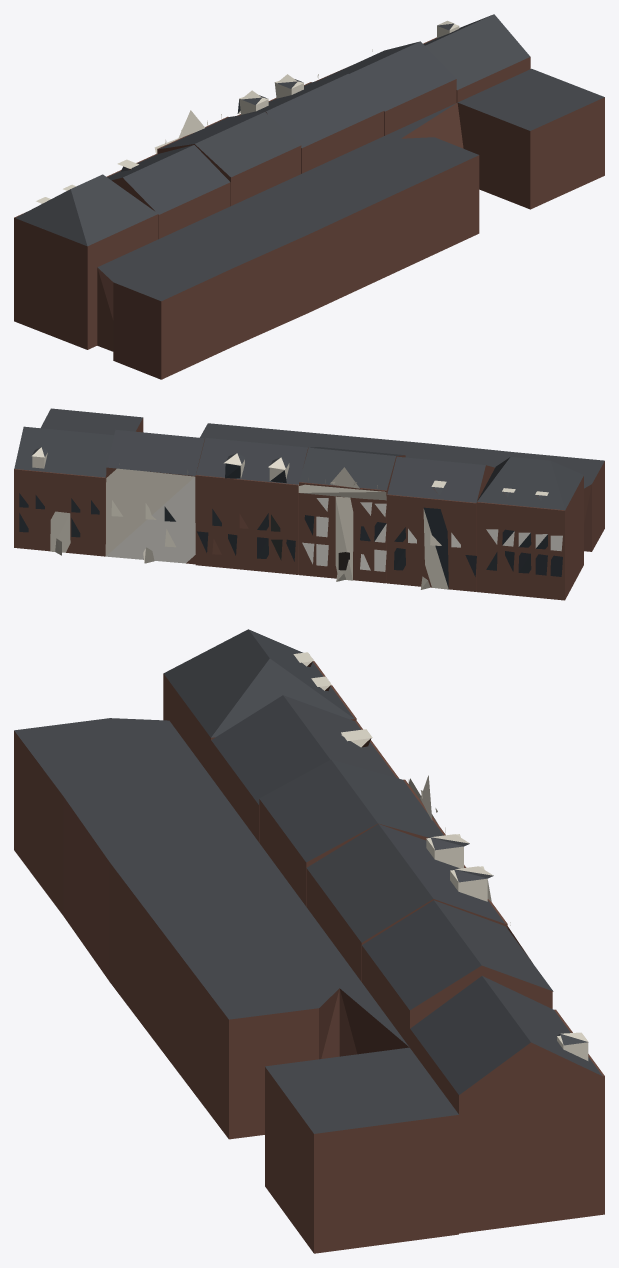
File: waldorf-astoria-herengracht.lod2.glb
The picture shows the model from 3 angles, top to bottom: view 1: azimuth 30°, elevation 25°; view 2: azimuth 150°, elevation 25°; view 3: azimuth 270°, elevation 25°; orthographic projection. The views are drawn at different scales.
Parts seen in each view (by area): view 1: lod2; view 2: lod2; view 3: lod2.
Boxes of the visible parts, box(x1,y1,x2,y2) form: lod2: box(14, 14, 604, 379); lod2: box(14, 408, 604, 600); lod2: box(14, 629, 604, 1253).
Bounding box in the file's own units: 95.67 × 21.29 × 54.15.
